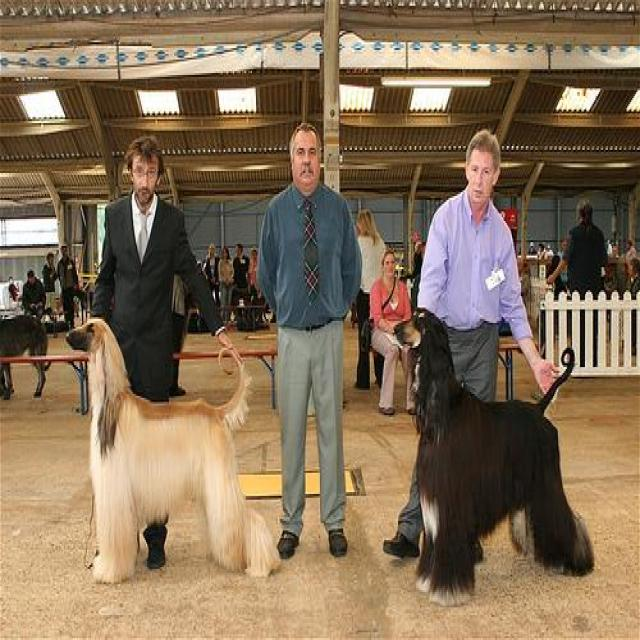afghan_hound: (393, 304, 595, 605), (64, 308, 276, 586)
